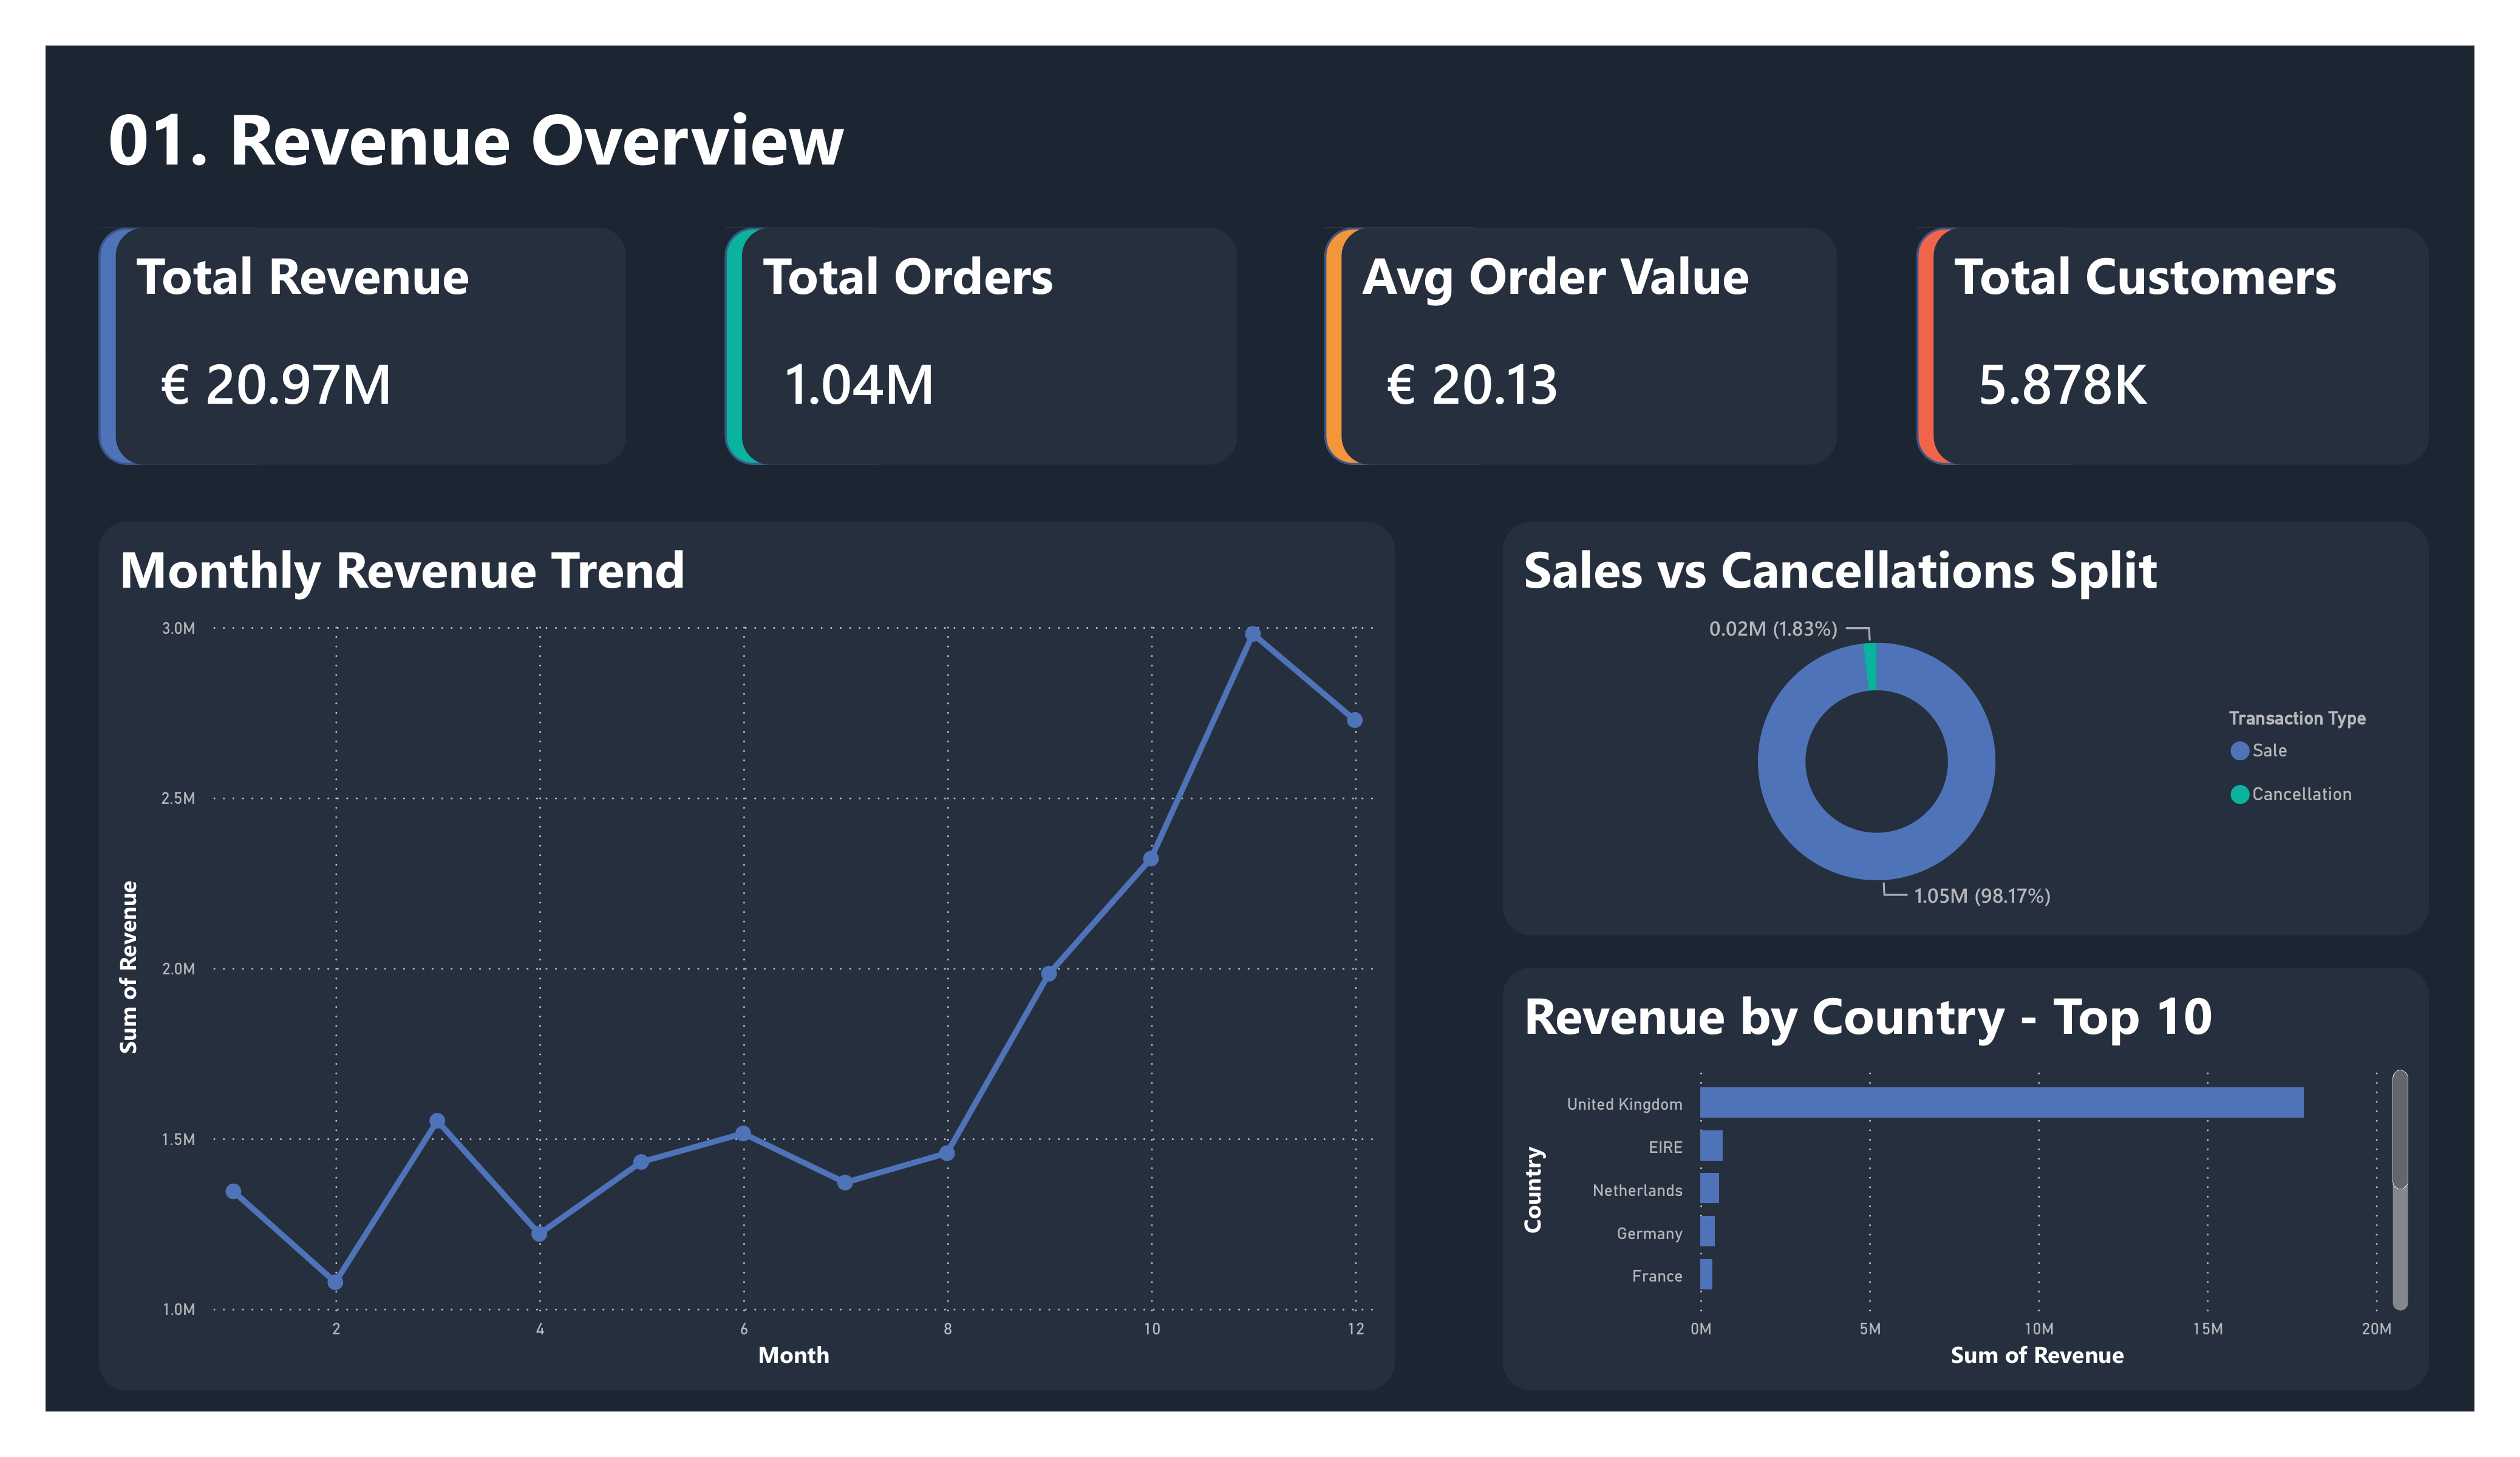

This screenshot's page, from the dashboard's own definition file:
{"tool":"powerbi","page":{"name":"01. Revenue Overview","canvas":[1280,720],"ordinal":0},"visuals":[{"type":"textbox","box":[27.5,17.5,420,65],"z":0},{"type":"shape","box":[27.5,96.2,96.4,125],"z":0,"group":"g1"},{"type":"shape","box":[357.5,96.2,93.8,125],"z":0,"group":"g2"},{"type":"shape","box":[673.8,96.2,93.8,125],"z":0,"group":"g3"},{"type":"shape","box":[986.2,96.2,93.8,125],"z":0,"group":"g4"},{"type":"group","id":"g1","title":"Group 1","box":[27.5,96.2,277.5,125],"z":1000},{"type":"cardVisual","title":"Total Revenue","fields":{"Data":["Sum(Cleaned_Combined_Data.Revenue)"]},"box":[36.9,96.2,268.1,125],"z":1000,"group":"g1"},{"type":"cardVisual","title":"Total Orders","fields":{"Data":["CountNonNull(Cleaned_Combined_Data.Invoice)"]},"box":[366.7,96.2,260.8,125],"z":1000,"group":"g2"},{"type":"cardVisual","title":"Avg Order Value","fields":{"Data":["Avg(Cleaned_Combined_Data.Revenue)"]},"box":[683,96.2,260.8,125],"z":1000,"group":"g3"},{"type":"cardVisual","title":"Total Customers","fields":{"Data":["Count(Cleaned_Combined_Data.Customer ID)"]},"box":[995.4,96.2,260.8,125],"z":1000,"group":"g4"},{"type":"group","id":"g2","title":"Group 1","box":[357.5,96.2,270,125],"z":2000},{"type":"group","id":"g3","title":"Group 1","box":[673.8,96.2,270,125],"z":3000},{"type":"group","id":"g4","title":"Group 1","box":[986.2,96.2,270,125],"z":4000},{"type":"lineChart","title":" Monthly Revenue Trend","fields":{"Category":["Cleaned_Combined_Data.Month"],"Y":["Sum(Cleaned_Combined_Data.Revenue)"]},"box":[27.5,251.2,683.8,457.5],"z":5000},{"type":"donutChart","title":"Sales vs Cancellations Split","fields":{"Category":["Uncleaned_Combined_Data.Transaction_Type"],"Y":["CountNonNull(Uncleaned_Combined_Data.Transaction_Type)"]},"box":[767.5,251.2,488.8,217.5],"z":6000},{"type":"clusteredBarChart","title":"Revenue by Country - Top 10","fields":{"Category":["Cleaned_Combined_Data.Country"],"Y":["Sum(Cleaned_Combined_Data.Revenue)"]},"box":[767.5,486.2,488.8,222.5],"z":7000}]}

Visuals, with their boxes on the page's 1280x720 design canvas (x1, y1, x2, y2). These are canvas units, not pixel positions in the 2520x1457 screenshot, which may show the page scaled, cropped or inside an application window:
textbox: left=28, top=18, right=448, bottom=82
shape: left=28, top=96, right=124, bottom=221
shape: left=358, top=96, right=451, bottom=221
shape: left=674, top=96, right=768, bottom=221
shape: left=986, top=96, right=1080, bottom=221
"Group 1" group: left=28, top=96, right=305, bottom=221
"Total Revenue" cardVisual: left=37, top=96, right=305, bottom=221
"Total Orders" cardVisual: left=367, top=96, right=628, bottom=221
"Avg Order Value" cardVisual: left=683, top=96, right=944, bottom=221
"Total Customers" cardVisual: left=995, top=96, right=1256, bottom=221
"Group 1" group: left=358, top=96, right=628, bottom=221
"Group 1" group: left=674, top=96, right=944, bottom=221
"Group 1" group: left=986, top=96, right=1256, bottom=221
" Monthly Revenue Trend" lineChart: left=28, top=251, right=711, bottom=709
"Sales vs Cancellations Split" donutChart: left=768, top=251, right=1256, bottom=469
"Revenue by Country - Top 10" clusteredBarChart: left=768, top=486, right=1256, bottom=709
